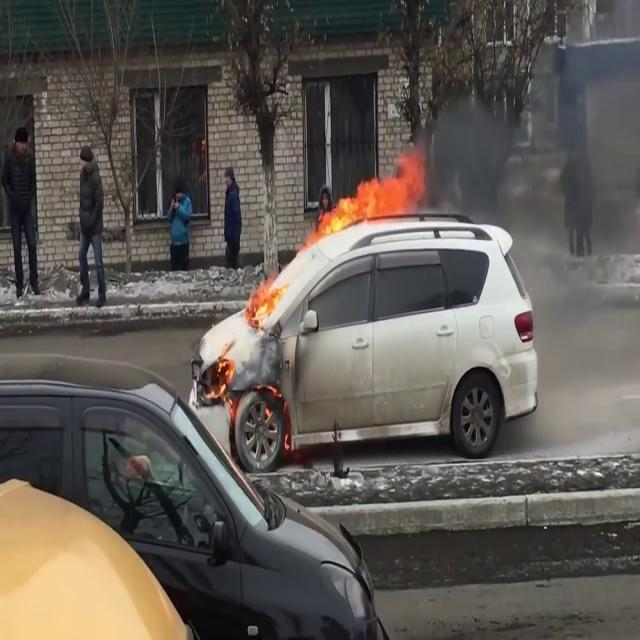Fire: (307, 152, 430, 242), (246, 272, 291, 330), (211, 348, 243, 406)
Smoke: (424, 3, 640, 250)
